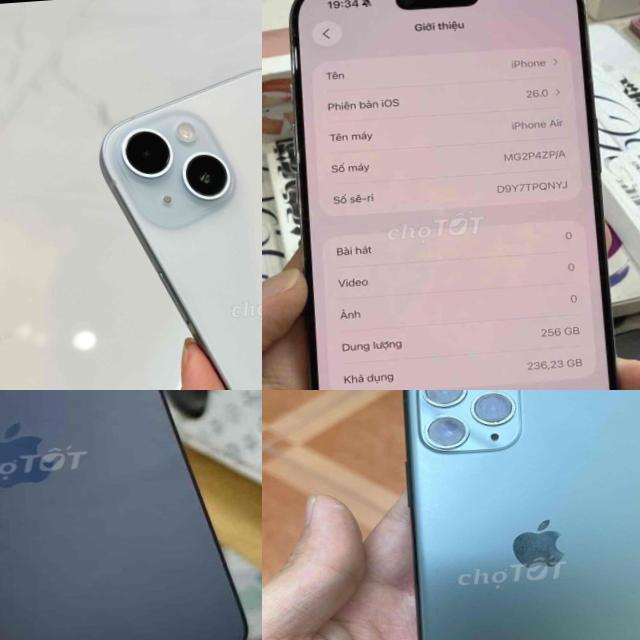gen_11: (377, 390, 640, 640)
gen_15: (0, 390, 262, 640), (89, 46, 262, 390)
gen_17: (269, 0, 640, 390)
